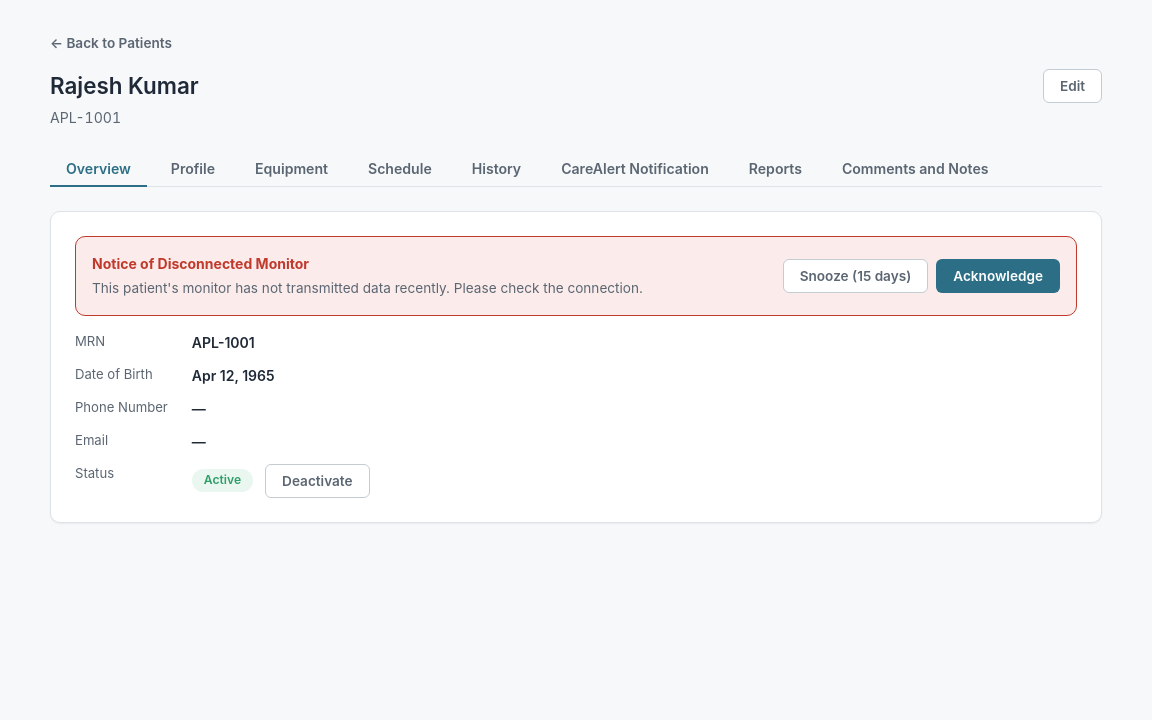
PatientDetailComponent › renders the Reports tab with the generated reports list
This screenshot has width=1152, height=720.
Step 1. Click the button with class "tab" showing "Reports" → (775, 170), box [733,152,818,187]
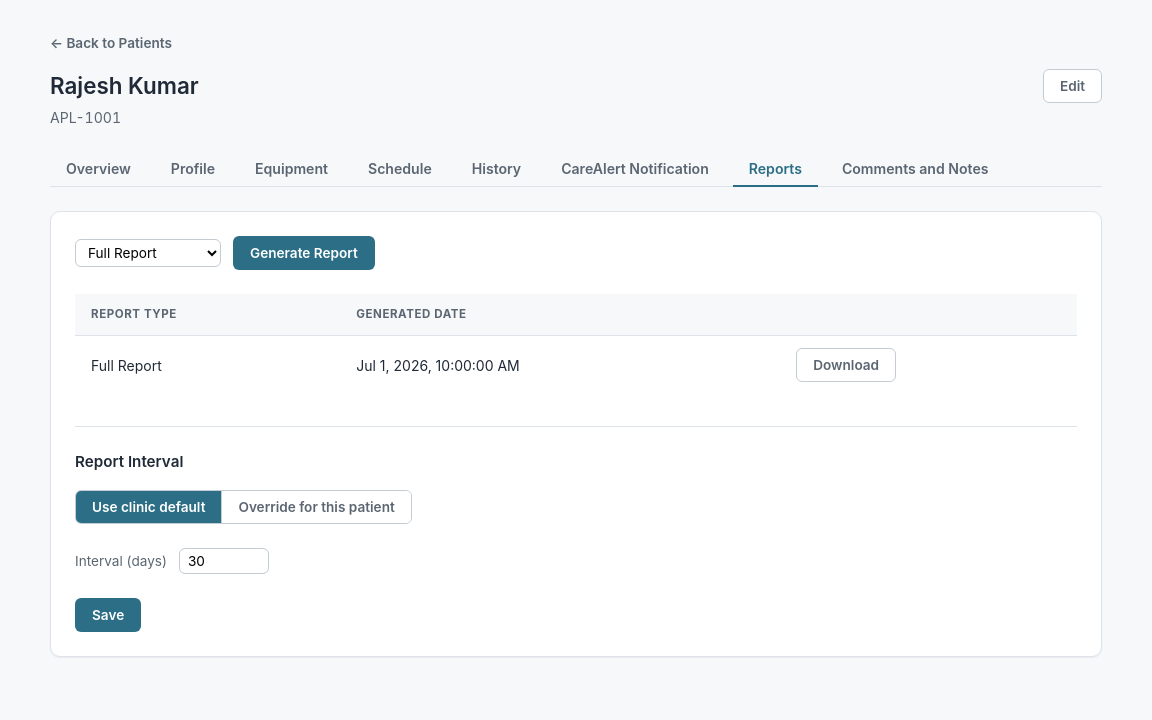
Check: the text "Full Report" is shown, box [75,336,340,394]
